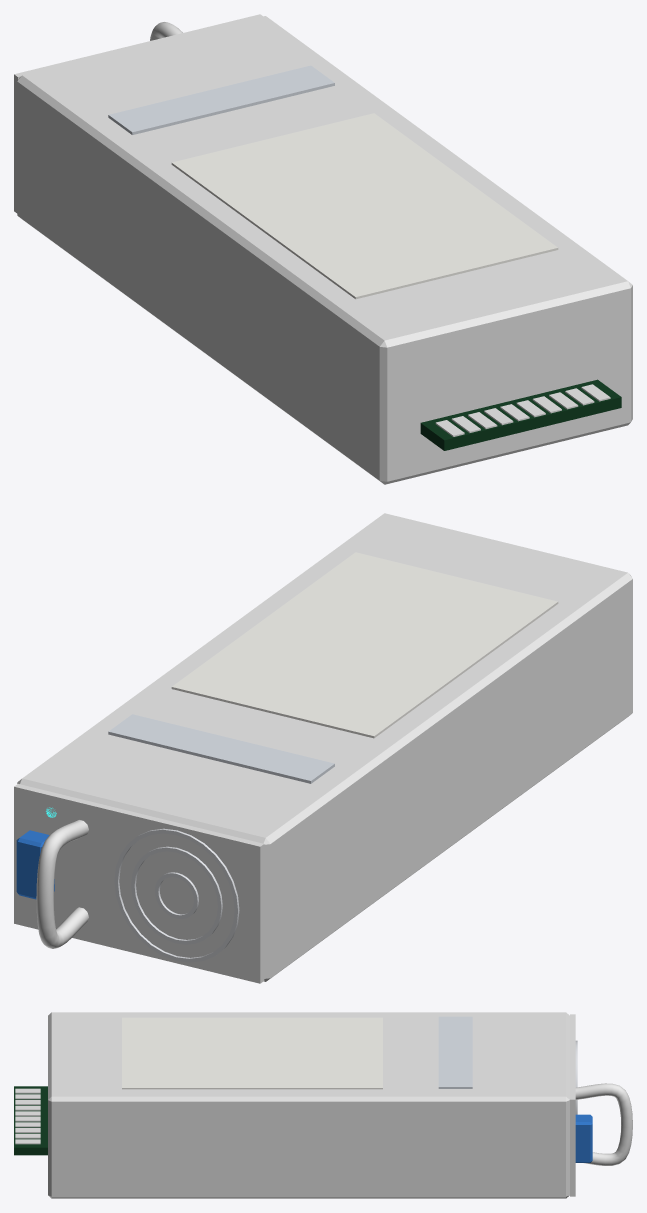
Rendered from hw_psu_1100w_plat.glb.
3 views of the same model, one above another, from view 1: azimuth 30°, elevation 25°; view 2: azimuth 150°, elevation 25°; view 3: azimuth 270°, elevation 25° (orthographic). The views are drawn at different scales.
Parts seen in each view (by area): view 1: Body; view 2: Body; view 3: Body.
Part boxes in pixels (bbox=[...]): Body: bbox=[14, 14, 632, 484]; Body: bbox=[14, 513, 632, 983]; Body: bbox=[14, 1012, 632, 1198].
Size of the model in its own units: 0.0735 by 0.041 by 0.2193.
